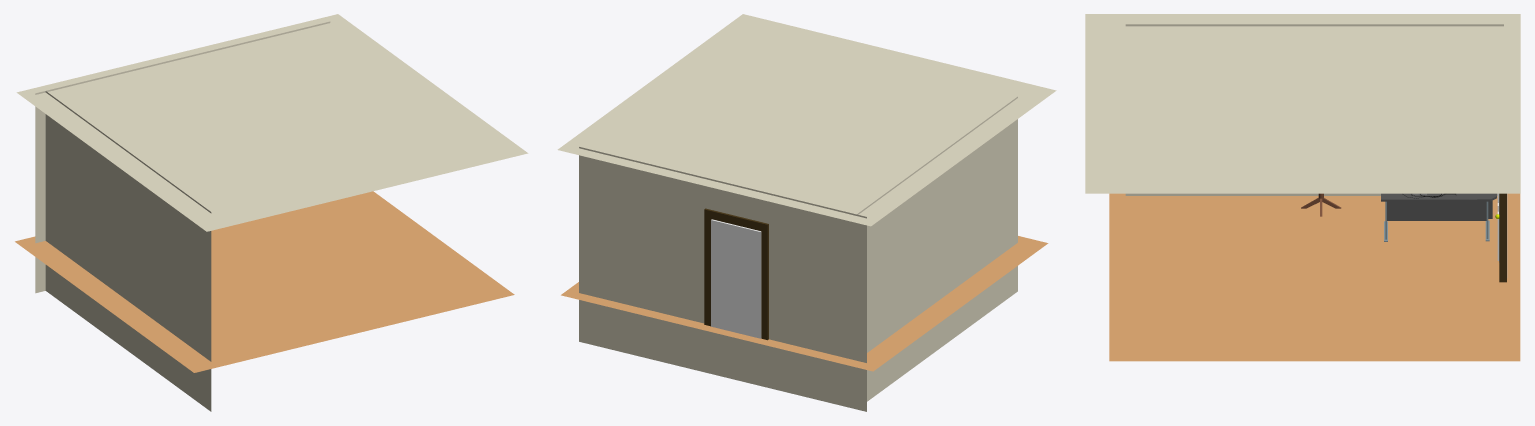
File: room2.glb
3 views of the same model, side by side, from view 1: azimuth 30°, elevation 25°; view 2: azimuth 150°, elevation 25°; view 3: azimuth 270°, elevation 25° (orthographic). The views are drawn at different scales.
Visible parts, largest first — view 1: Ceiling, Floor, Back Wall, Side Wall; view 2: Ceiling, Side Wall, Back Wall, Door, Floor; view 3: Ceiling, Floor, DeskWall.004, Back Wall, DeskSurface, Door.
Part boxes in pixels (<box>): Ceiling: <box>16,14,528,231</box>; Floor: <box>15,191,514,372</box>; Back Wall: <box>45,91,211,411</box>; Side Wall: <box>35,21,330,293</box>; Ceiling: <box>557,14,1056,226</box>; Side Wall: <box>579,147,866,411</box>; Back Wall: <box>857,96,1017,401</box>; Door: <box>704,208,768,340</box>; Floor: <box>561,236,1048,371</box>; Ceiling: <box>1085,14,1520,193</box>; Floor: <box>1109,193,1520,361</box>; DeskWall.004: <box>1387,201,1486,220</box>; Back Wall: <box>1125,24,1503,195</box>; DeskSurface: <box>1381,193,1496,201</box>; Door: <box>1495,193,1507,282</box>.
Size of the model in its own units: 10.17 by 6 by 10.36.
21 materials, 3 textured.
